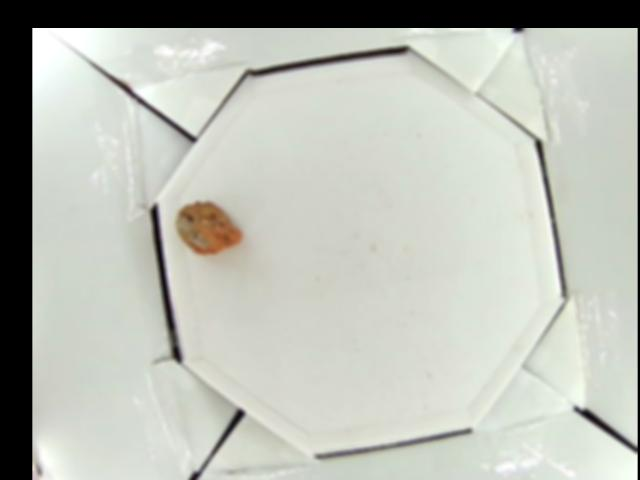Brisk: (178, 200, 239, 257)
